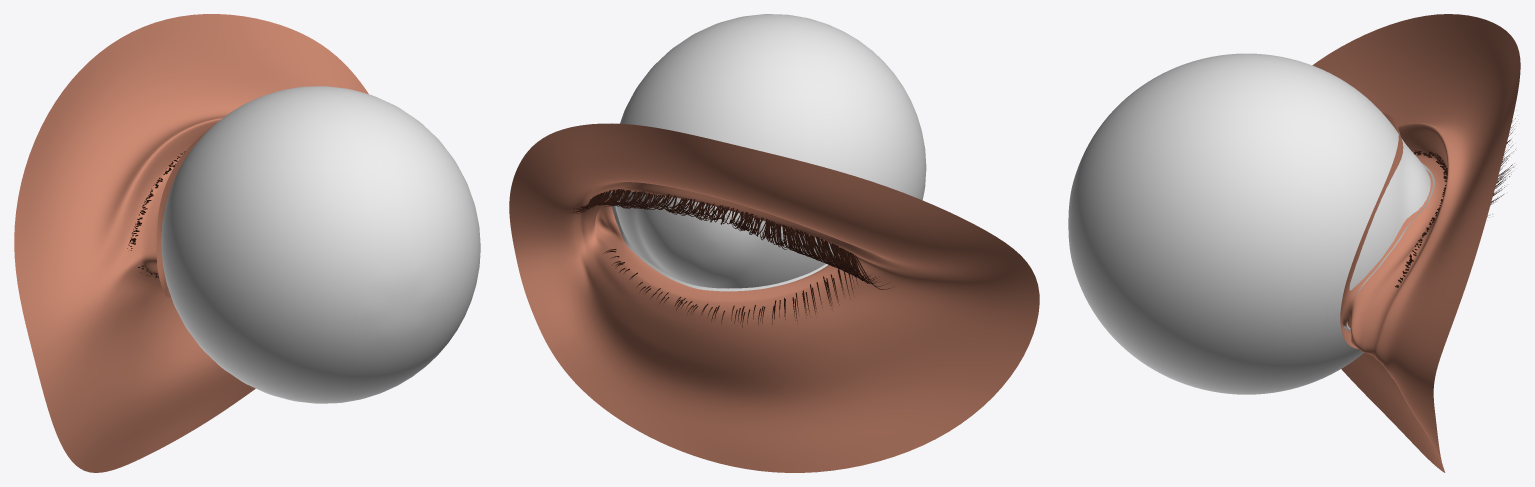
Rendered from Eye.fbx.
3 views of the same model, side by side, from view 1: azimuth 30°, elevation 25°; view 2: azimuth 150°, elevation 25°; view 3: azimuth 270°, elevation 25° (orthographic). The views are drawn at different scales.
Parts seen in each view (by area): view 1: Eyeball, Eyelids; view 2: Eyelids, Eyeball, Eyelashes, Wetline; view 3: Eyeball, Eyelids, Eyelashes.
Boxes of the visible parts, x1=… form: Eyeball: x1=161, y1=86, x2=480, y2=403; Eyelids: x1=14, y1=14, x2=368, y2=472; Eyelids: x1=509, y1=123, x2=1039, y2=472; Eyeball: x1=615, y1=14, x2=926, y2=288; Eyelashes: x1=569, y1=189, x2=894, y2=327; Wetline: x1=609, y1=191, x2=839, y2=291; Eyeball: x1=1068, y1=53, x2=1430, y2=394; Eyelids: x1=1312, y1=14, x2=1520, y2=472; Eyelashes: x1=1395, y1=118, x2=1515, y2=287.
Size of the model in its own units: 290 by 231 by 232.
